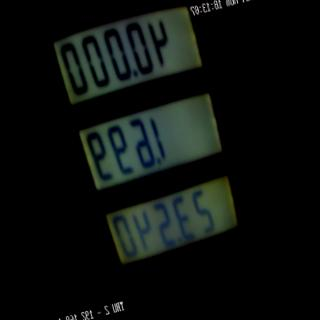screen: (45, 0, 259, 285)
